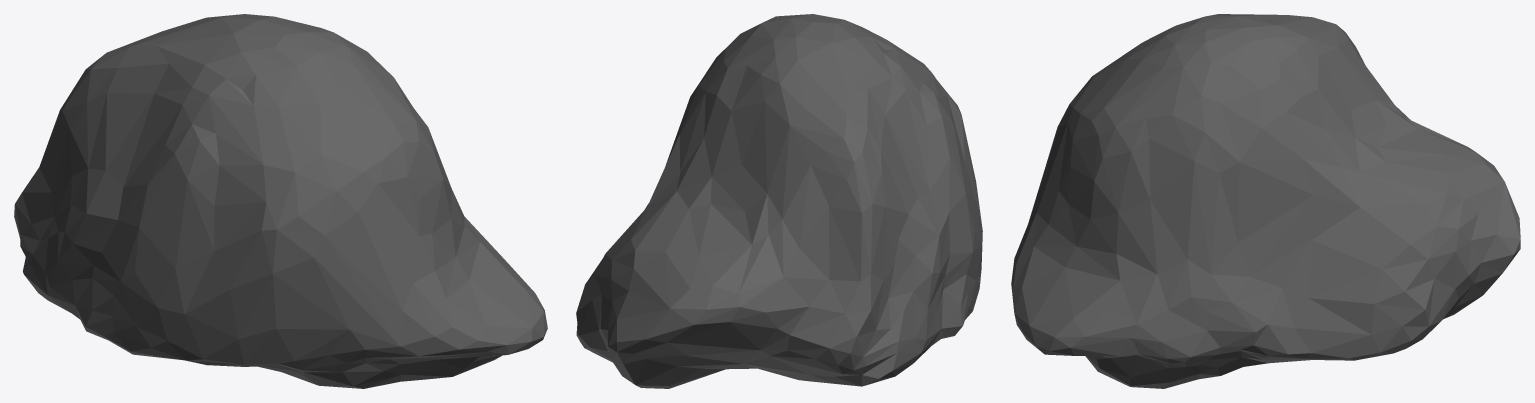
The model's file is stein2.obj.
3 renders of one model, left to right at view 1: azimuth 30°, elevation 25°; view 2: azimuth 150°, elevation 25°; view 3: azimuth 270°, elevation 25°, orthographic. The views are drawn at different scales.
Parts seen in each view (by area): view 1: Rock_3_Icosphere.003; view 2: Rock_3_Icosphere.003; view 3: Rock_3_Icosphere.003.
Part boxes in pixels (bbox=[...]): Rock_3_Icosphere.003: bbox=[14, 14, 547, 388]; Rock_3_Icosphere.003: bbox=[576, 14, 982, 388]; Rock_3_Icosphere.003: bbox=[1011, 14, 1520, 388].
Bounding box in the file's own units: 0.6707 × 0.579 × 0.9048.
1 material, 1 textured.
